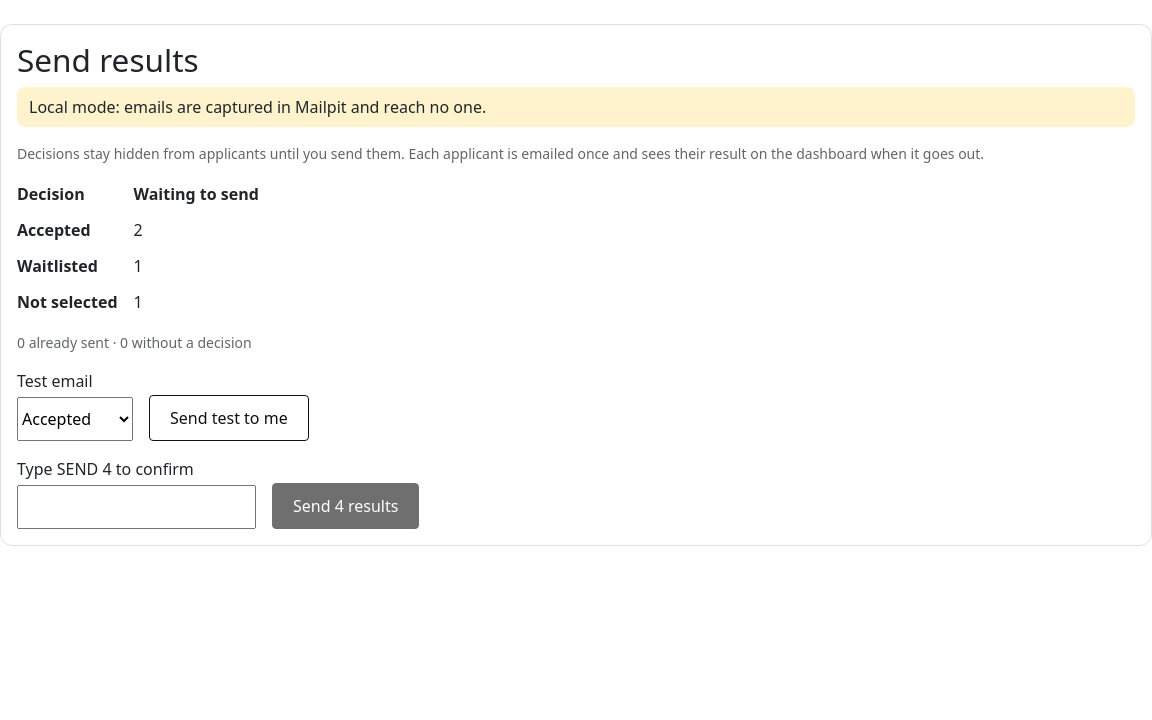
Test: ReleaseResultsPanel › sends a test email to the organizer
Click the button "Send test to me" at (229, 418), box 149,395 -> 309,441
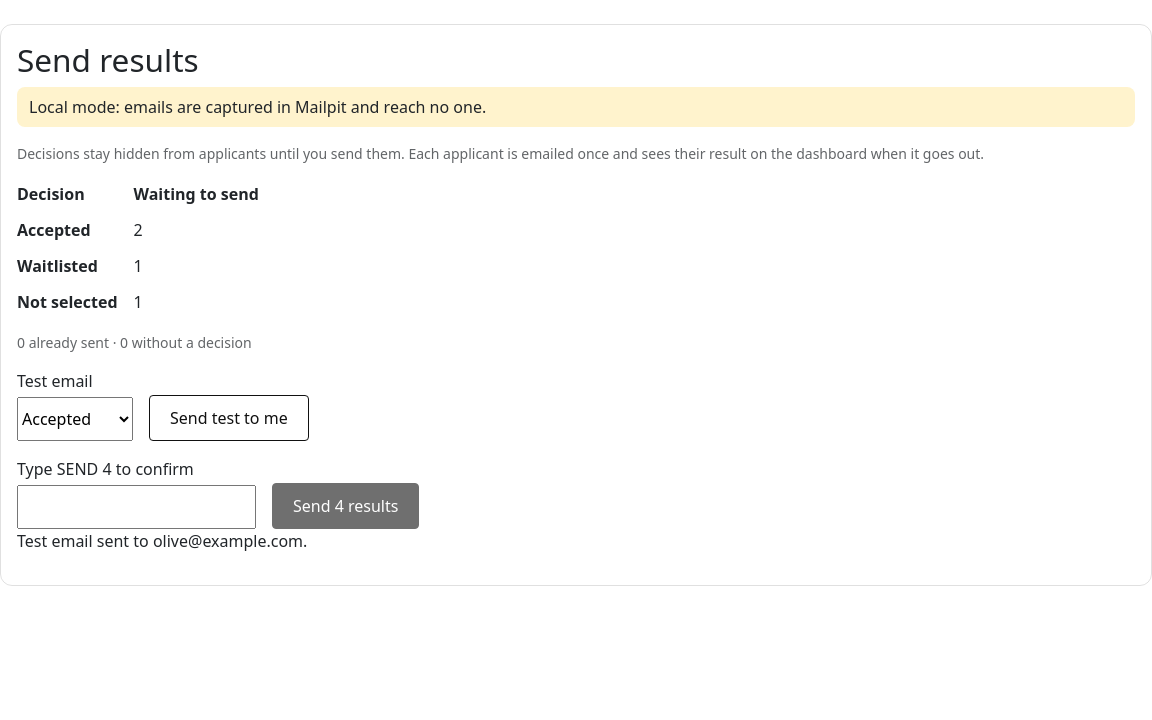
Result: the text "Test email sent to olive@example.com." is shown at 17,530 -> 307,552
